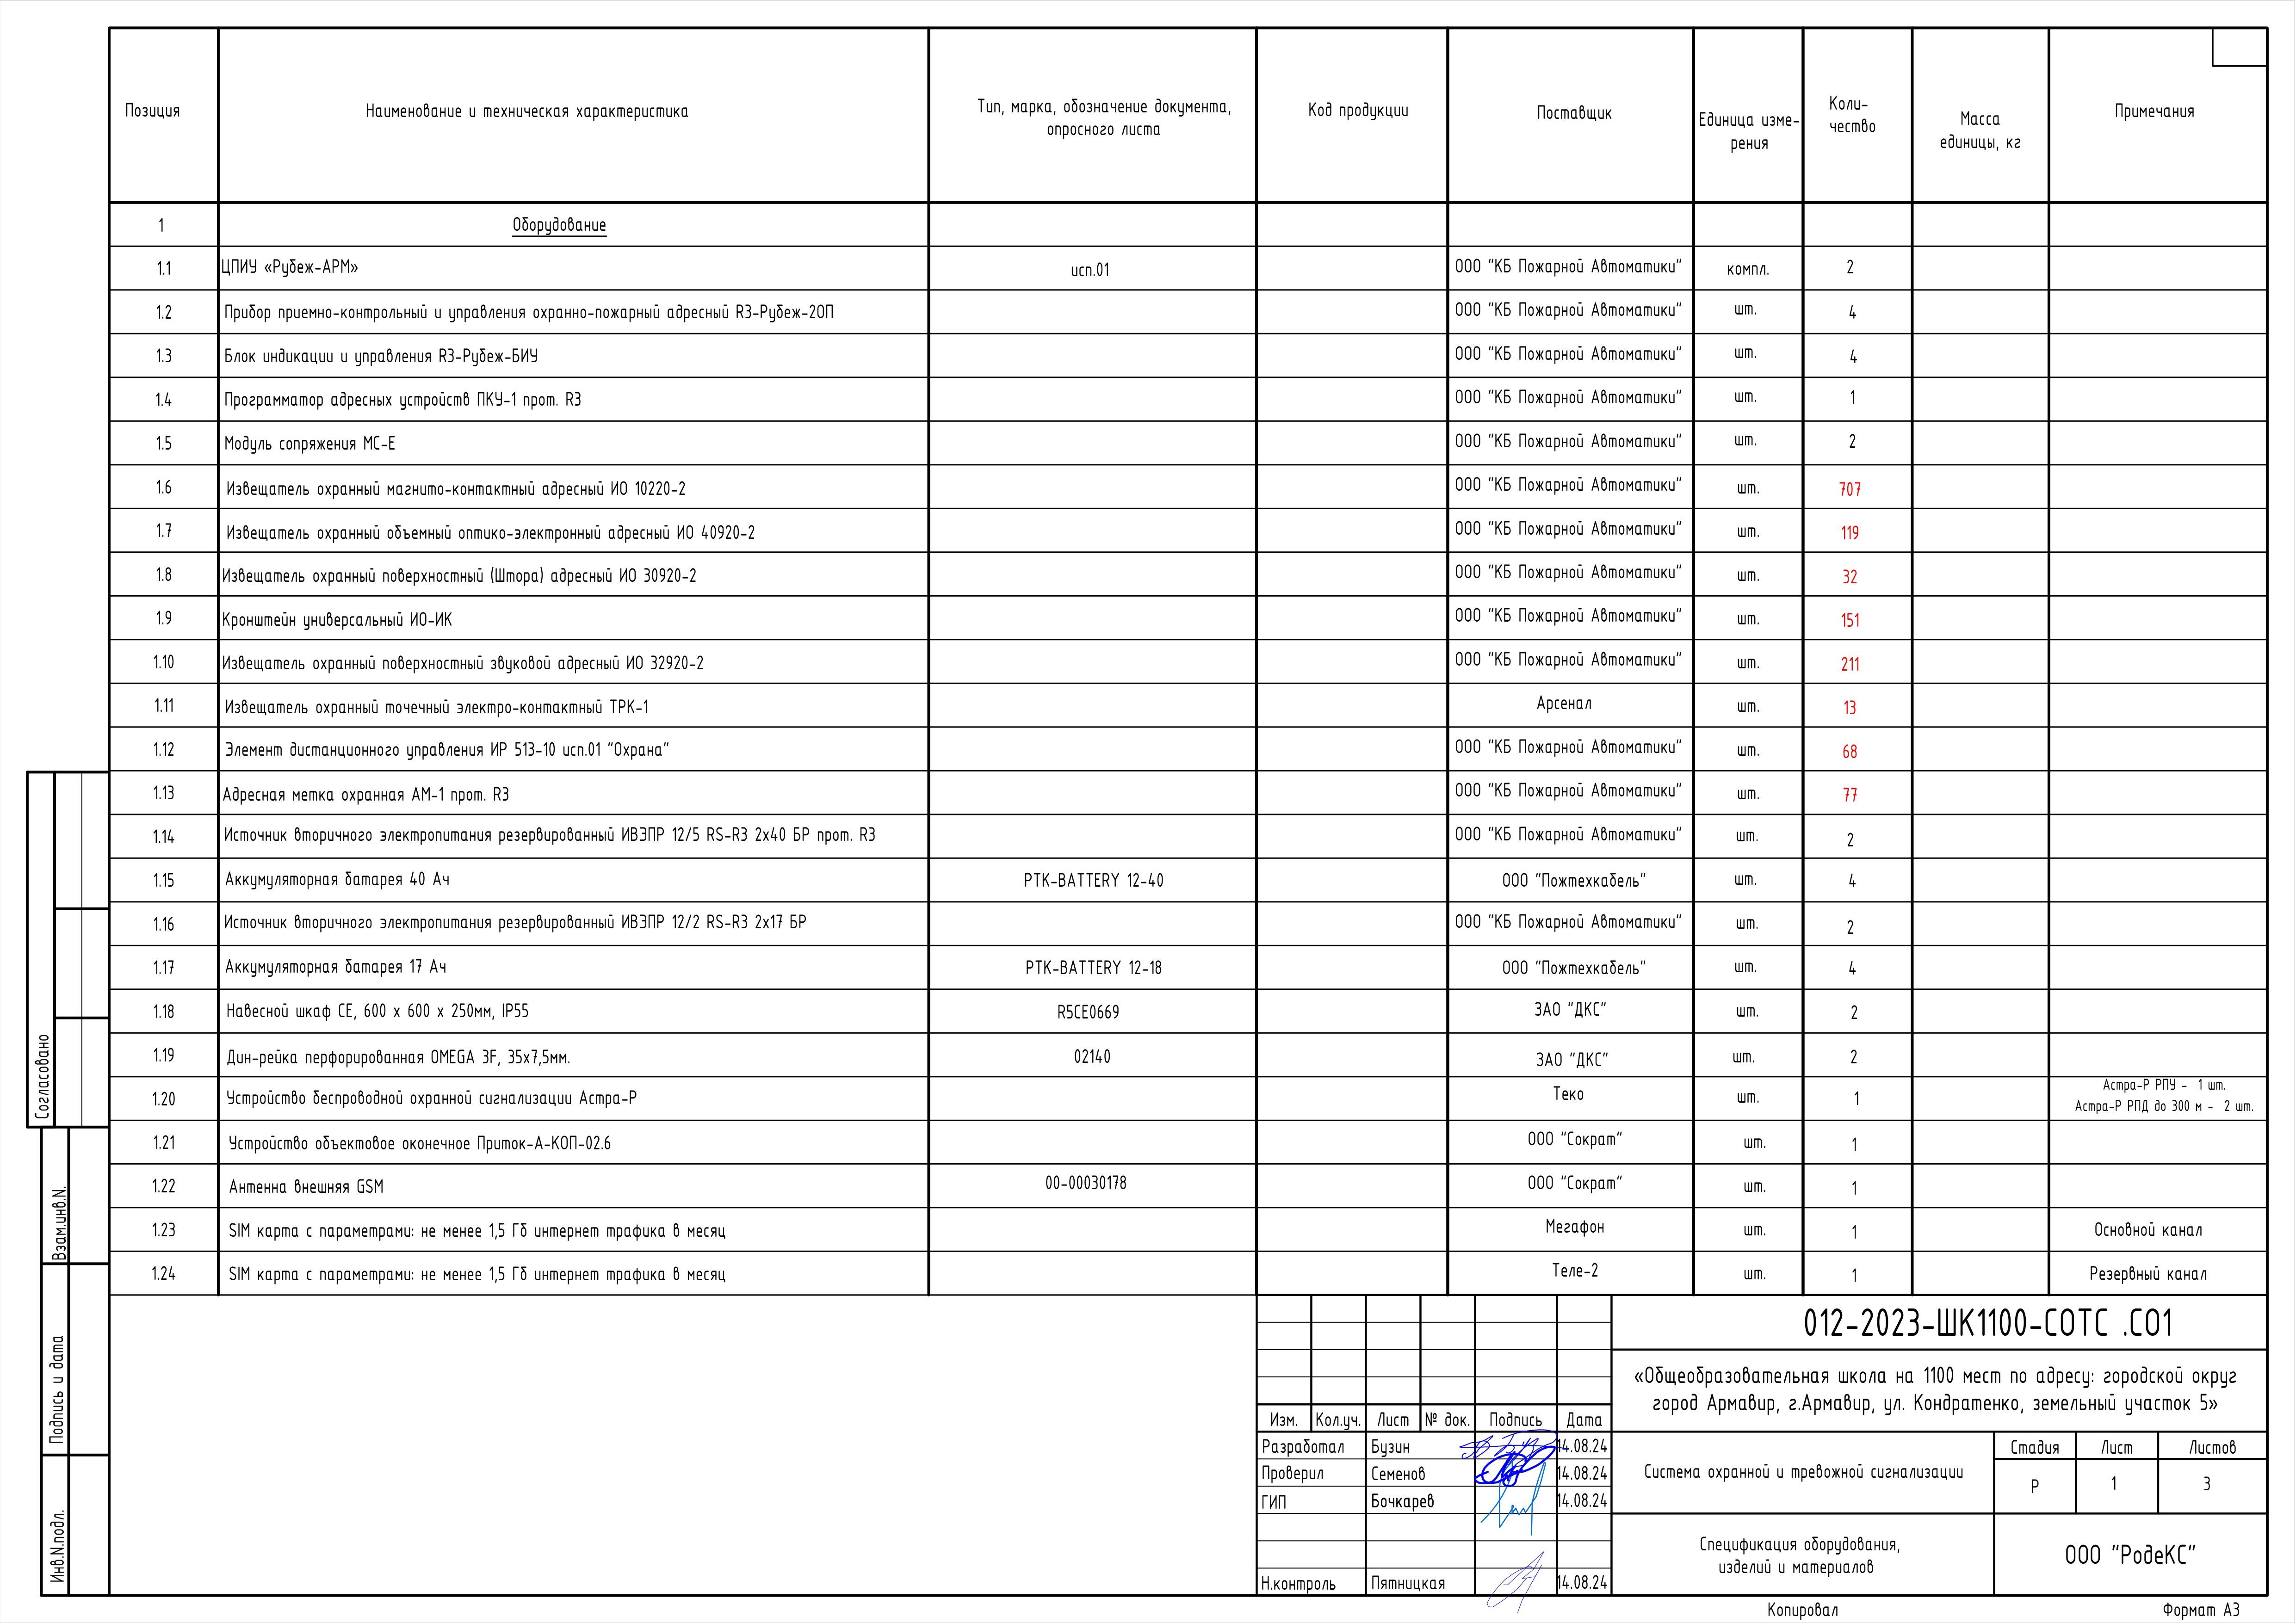Name of costs: (219, 202, 930, 1295)
Note: (932, 201, 1256, 1294)
Quantity: (1803, 203, 1911, 1293)
Unit of measurement: (1694, 203, 1803, 1294)
